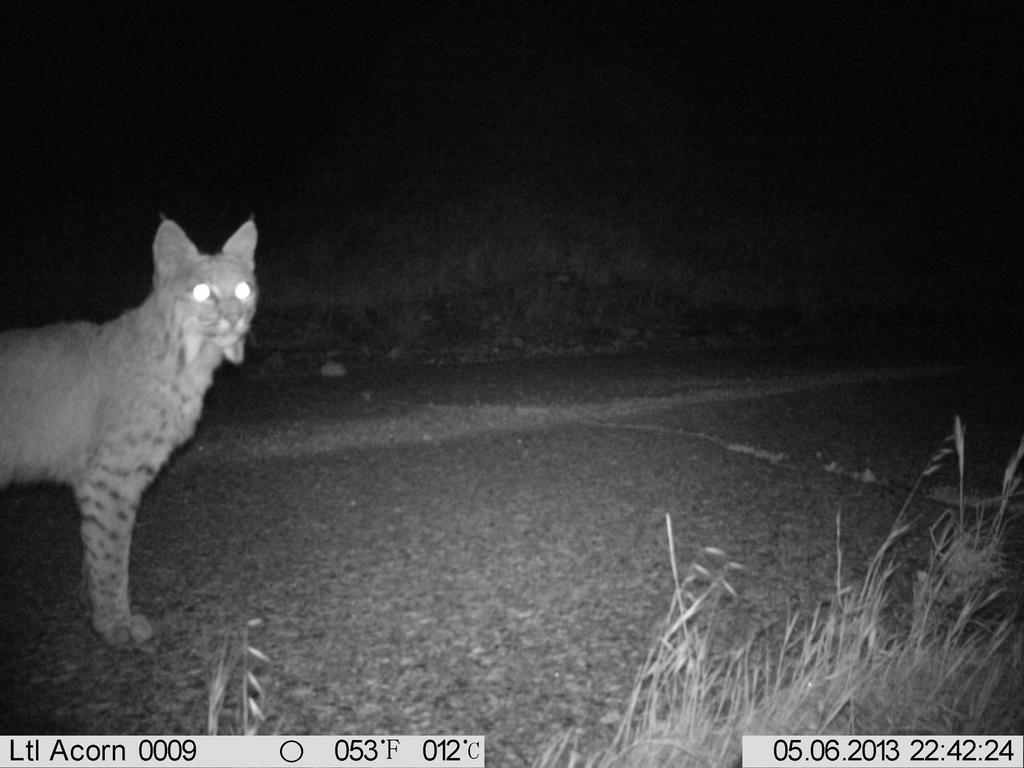bobcat: (1, 221, 265, 655)
